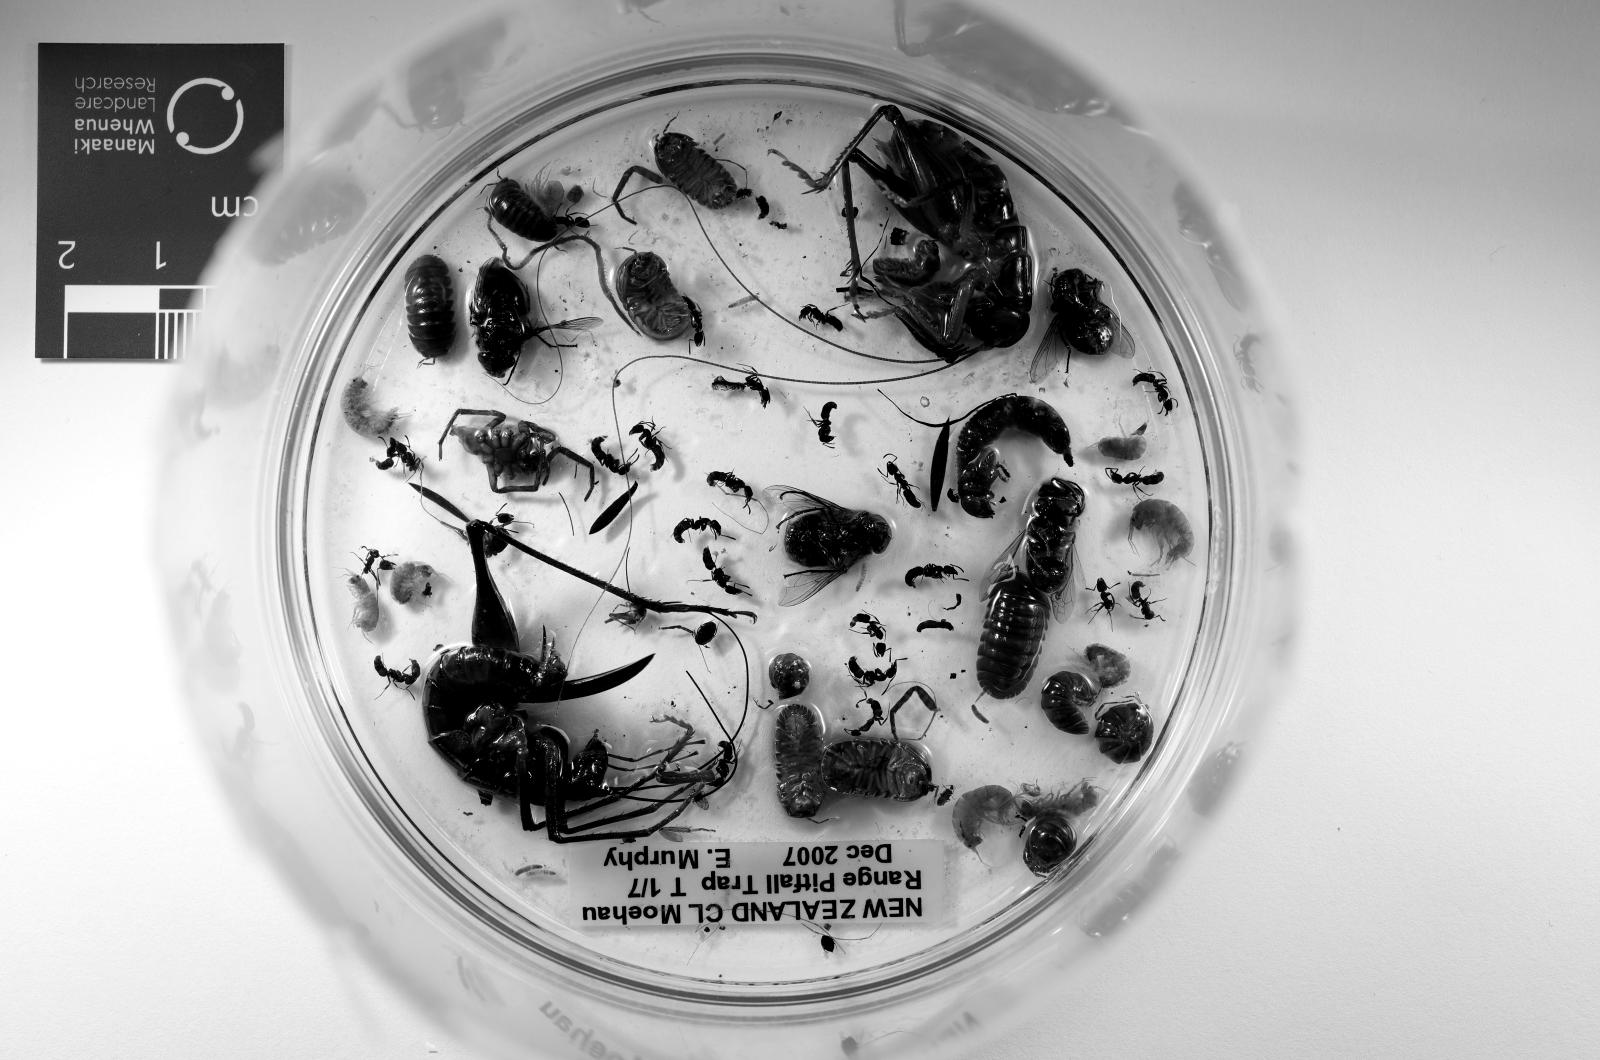amphipoda: (1128, 500, 1194, 568), (953, 786, 1016, 851), (341, 376, 400, 438), (1016, 779, 1100, 820), (1084, 643, 1131, 689), (391, 562, 434, 606), (350, 575, 378, 634), (1097, 432, 1147, 460)
araneae: (444, 410, 597, 497)
coleoptera: (956, 394, 1072, 519), (694, 621, 719, 646), (938, 786, 953, 807), (822, 935, 834, 953), (947, 488, 959, 503)
diptera: (469, 258, 600, 379), (981, 478, 1084, 621), (772, 488, 894, 606), (1031, 270, 1134, 382)
formicidae: (703, 547, 750, 596), (628, 419, 666, 472), (884, 460, 922, 509), (1131, 373, 1175, 413), (372, 655, 422, 689), (706, 472, 756, 506), (591, 435, 631, 475), (847, 658, 897, 689), (672, 516, 728, 543), (1106, 466, 1166, 491), (903, 565, 966, 587), (847, 699, 884, 736), (800, 304, 844, 332), (1128, 581, 1156, 621), (812, 401, 838, 444), (850, 612, 884, 643), (712, 742, 734, 789), (1094, 578, 1116, 621), (362, 550, 378, 575)
isopoda: (975, 568, 1050, 699), (616, 252, 703, 345), (822, 739, 934, 801), (653, 134, 741, 208), (775, 705, 825, 817), (406, 255, 456, 360), (488, 177, 556, 242), (1094, 702, 1153, 764), (1041, 671, 1097, 736), (1022, 817, 1078, 876), (872, 239, 941, 286), (769, 652, 809, 699)
orthoptera: (422, 522, 659, 842), (772, 106, 1034, 360), (606, 602, 647, 627)
